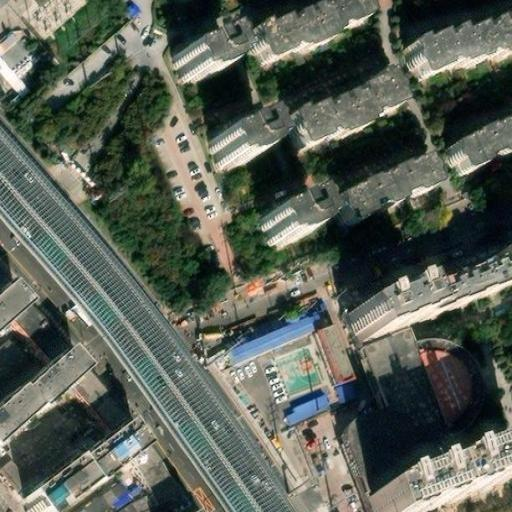building: (345, 319, 463, 495), (19, 297, 139, 427), (280, 66, 410, 154), (367, 439, 512, 512), (24, 429, 141, 512), (328, 155, 437, 227), (0, 339, 86, 430), (403, 14, 512, 81), (409, 258, 499, 316), (230, 314, 321, 360), (445, 119, 512, 178), (346, 286, 419, 340), (75, 467, 160, 512), (133, 447, 189, 512), (175, 38, 233, 87), (255, 198, 313, 247), (210, 122, 267, 171), (315, 322, 357, 387), (0, 328, 40, 392), (285, 393, 331, 426), (489, 242, 512, 285), (337, 379, 364, 403)
